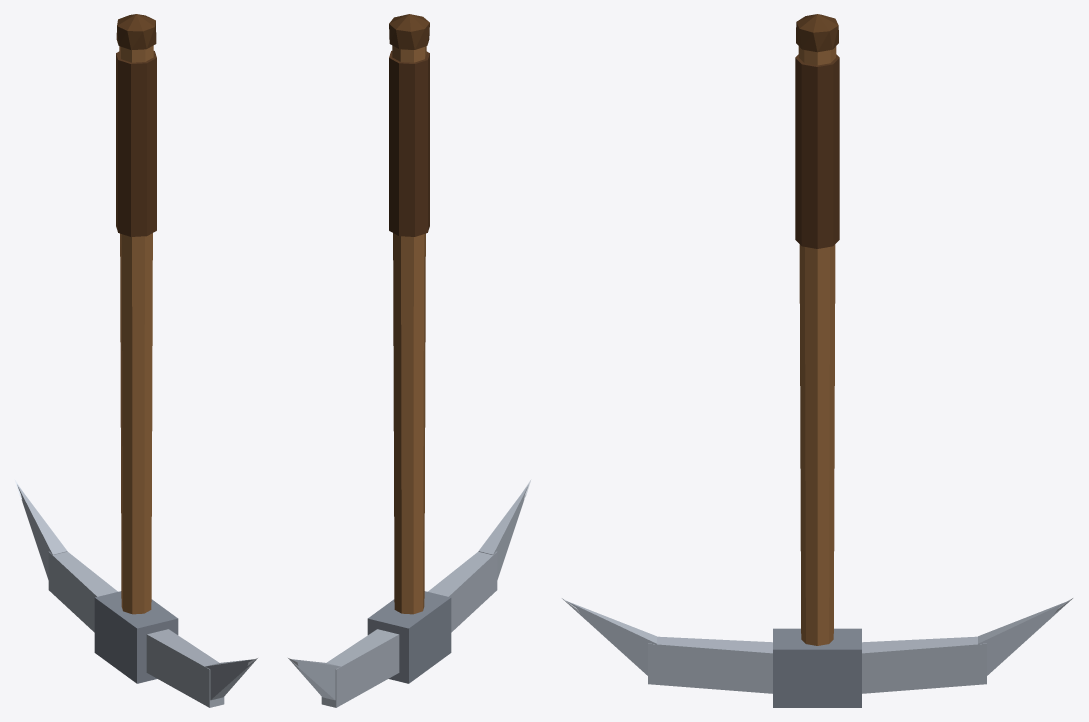
Rendered from held_steel_pickaxe.glb.
The picture shows the model from 3 angles, left to right: view 1: azimuth 30°, elevation 25°; view 2: azimuth 150°, elevation 25°; view 3: azimuth 270°, elevation 25°; orthographic projection. The views are drawn at different scales.
Visible parts, largest first — view 1: held_steel_pickaxe; view 2: held_steel_pickaxe; view 3: held_steel_pickaxe.
Boxes of the visible parts, left/top/right/bottom form: held_steel_pickaxe: left=14, top=14, right=257, bottom=707; held_steel_pickaxe: left=288, top=14, right=531, bottom=707; held_steel_pickaxe: left=562, top=14, right=1072, bottom=707.
Bounding box in the file's own units: 0.056 × 0.849 × 0.576.
